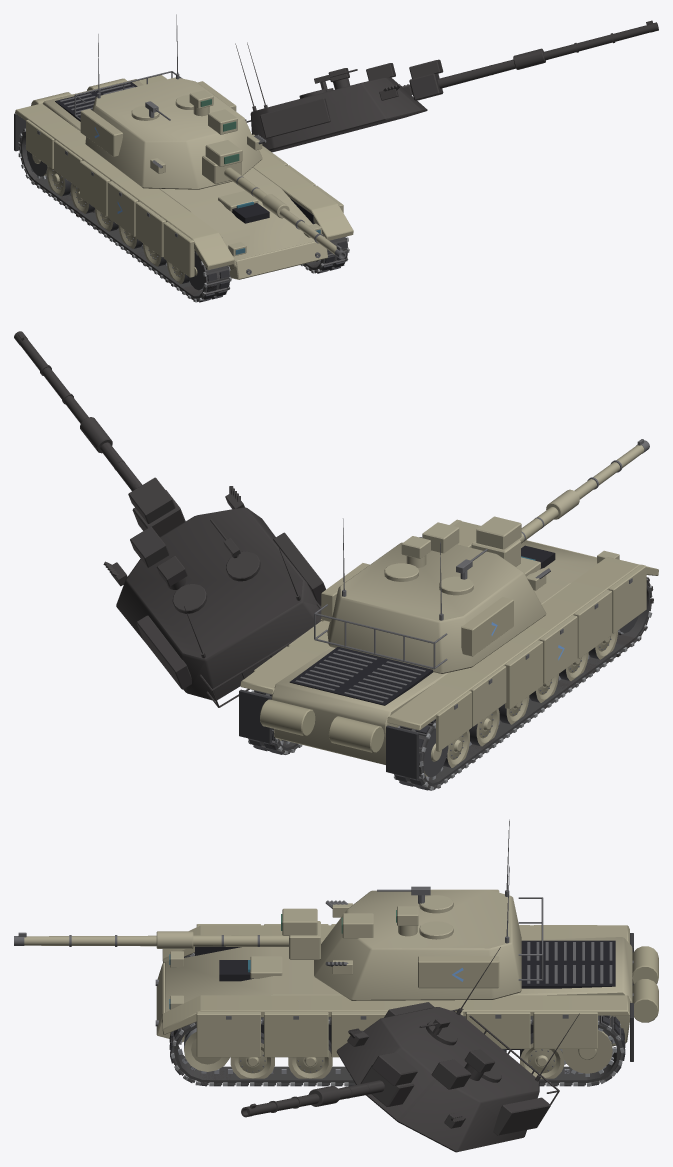
Rendered from tank__challenger_2.glb.
3 renders of one model, top to bottom at view 1: azimuth 30°, elevation 25°; view 2: azimuth 150°, elevation 25°; view 3: azimuth 270°, elevation 25°, orthographic. The views are drawn at different scales.
Parts seen in each view (by area): view 1: Hull_Mesh, Wreck, Turret_Mesh, Track_L_Mesh, Gun_Mesh, Track_R_Mesh, Gunner_Sight_Mesh, CITV_Mesh, Wheel_L0_Mesh; view 2: Hull_Mesh, Wreck, Turret_Mesh, Track_L_Mesh, Gun_Mesh, Gunner_Sight_Mesh, CITV_Mesh, Sprocket_L_Mesh, Wheel_L1_Mesh; view 3: Hull_Mesh, Wreck, Turret_Mesh, Gun_Mesh, Track_R_Mesh, Sprocket_R_Mesh, Wheel_R0_Mesh, Wheel_R5_Mesh, Wheel_R4_Mesh, Idler_R_Mesh, Gunner_Sight_Mesh, CITV_Mesh (+2 smaller).
Boxes of the visible parts, <box> form: Hull_Mesh: <box>14,75,353,279</box>; Wreck: <box>18,20,658,301</box>; Turret_Mesh: <box>74,71,262,189</box>; Track_L_Mesh: <box>18,128,231,302</box>; Gun_Mesh: <box>202,140,346,259</box>; Track_R_Mesh: <box>300,223,349,273</box>; Gunner_Sight_Mesh: <box>208,109,237,134</box>; CITV_Mesh: <box>189,90,213,116</box>; Wheel_L0_Mesh: <box>47,166,71,196</box>; Hull_Mesh: <box>239,519,658,779</box>; Wreck: <box>14,331,653,788</box>; Turret_Mesh: <box>314,542,546,673</box>; Track_L_Mesh: <box>394,579,652,790</box>; Gun_Mesh: <box>471,439,649,566</box>; Gunner_Sight_Mesh: <box>422,522,459,553</box>; CITV_Mesh: <box>401,536,430,567</box>; Sprocket_L_Mesh: <box>423,728,448,780</box>; Wheel_L1_Mesh: <box>469,708,499,746</box>; Hull_Mesh: <box>155,924,658,1061</box>; Wreck: <box>169,947,619,1152</box>; Turret_Mesh: <box>314,889,543,1000</box>; Gun_Mesh: <box>14,908,320,959</box>; Track_R_Mesh: <box>170,1015,625,1086</box>; Sprocket_R_Mesh: <box>560,1027,616,1076</box>; Wheel_R0_Mesh: <box>520,1033,564,1078</box>; Wheel_R5_Mesh: <box>230,1032,274,1078</box>; Wheel_R4_Mesh: <box>288,1040,332,1078</box>; Idler_R_Mesh: <box>184,1027,229,1071</box>; Gunner_Sight_Mesh: <box>341,913,373,938</box>; CITV_Mesh: <box>396,906,418,936</box>.
Size of what is drawn, in the model's own units: 11.98 by 3.92 by 11.3.
